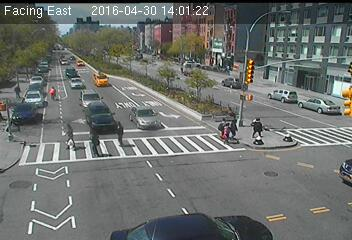neg: (7, 10, 33, 45), (317, 78, 343, 112), (297, 14, 322, 49), (122, 81, 145, 111), (182, 205, 204, 235), (123, 33, 145, 62), (311, 151, 332, 179), (246, 171, 267, 199), (37, 175, 57, 203), (181, 139, 201, 166), (26, 120, 45, 145), (262, 56, 279, 79), (113, 162, 130, 185), (62, 15, 78, 36), (168, 76, 181, 94), (45, 83, 58, 100), (238, 20, 251, 37), (70, 76, 82, 91), (198, 36, 209, 51)
pos: (76, 120, 105, 159), (105, 116, 131, 150), (59, 120, 82, 151), (226, 114, 244, 139), (247, 113, 265, 137), (215, 113, 232, 136), (219, 122, 234, 142), (10, 83, 22, 99)
